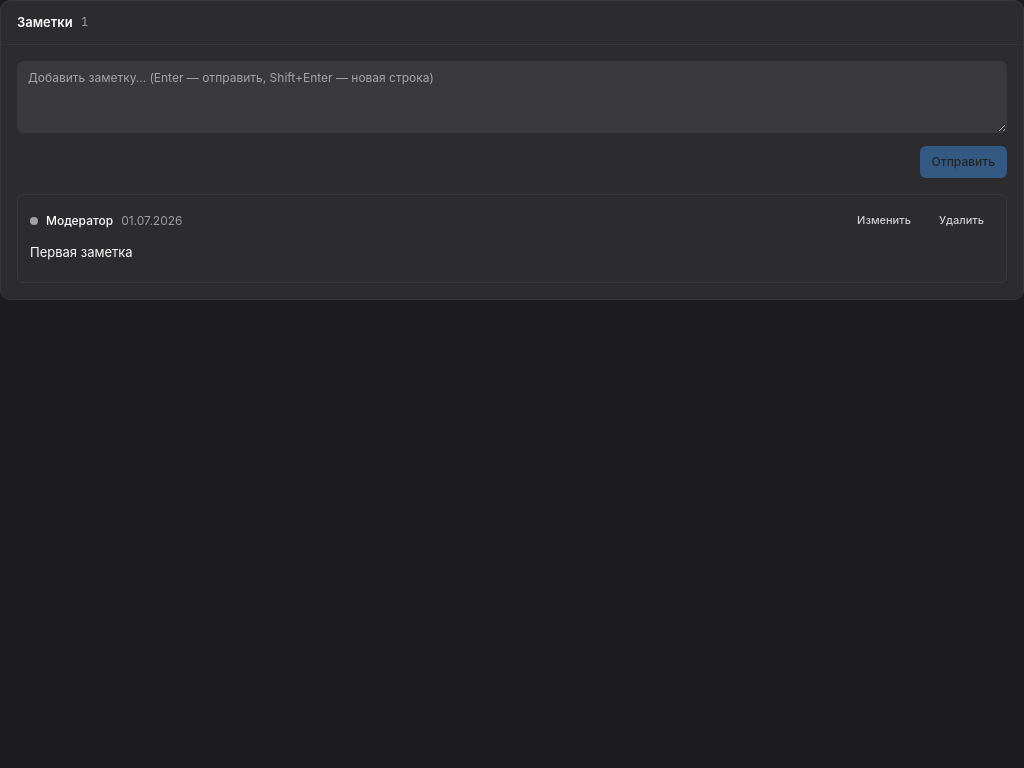
Scenario: NotesSection — error reporting (#448) › reports a failed delete as a delete failure, without a reload button
expect the text "Первая заметка" is shown: met, box [30, 244, 133, 260]
Click the button "Удалить": [961, 221] box [929, 207, 994, 235]
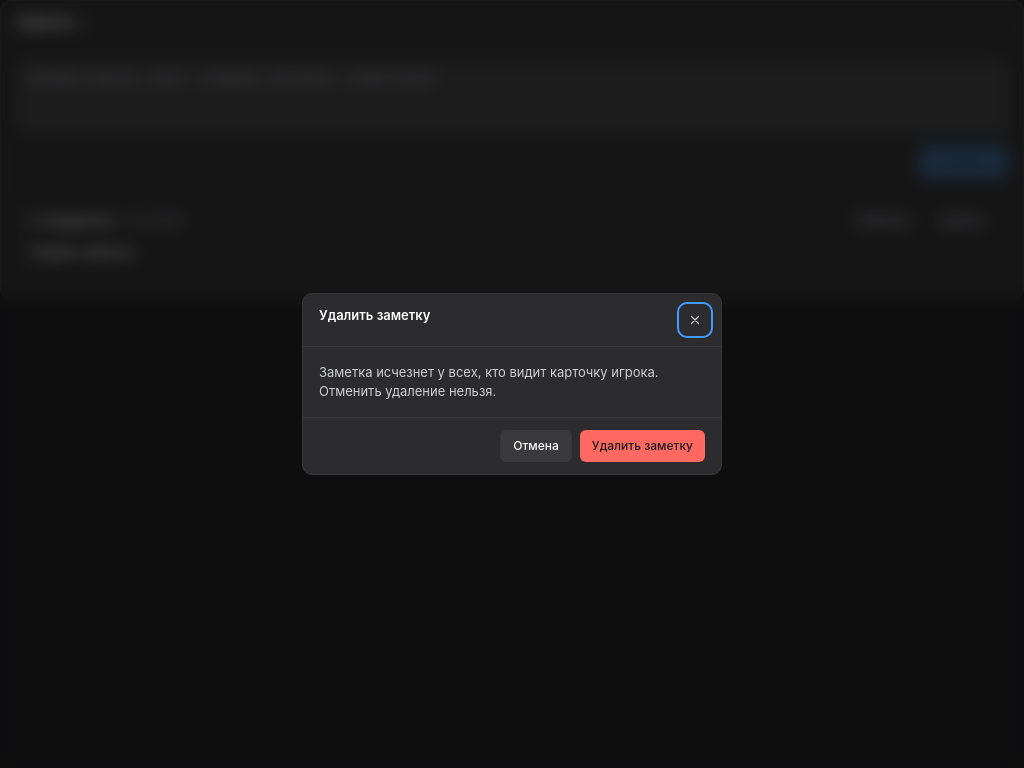
Click the button "Удалить заметку": [642, 446] box [580, 430, 705, 462]
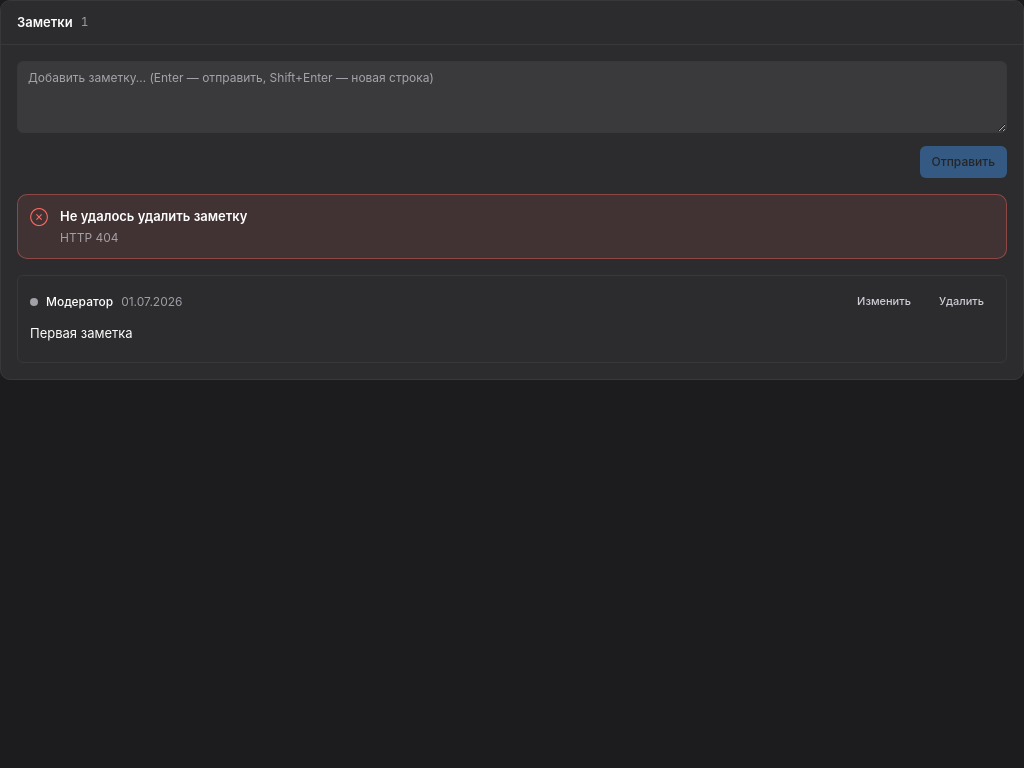
expect the text "Не удалось удалить заметку" is shown: met, box [60, 208, 248, 224]
